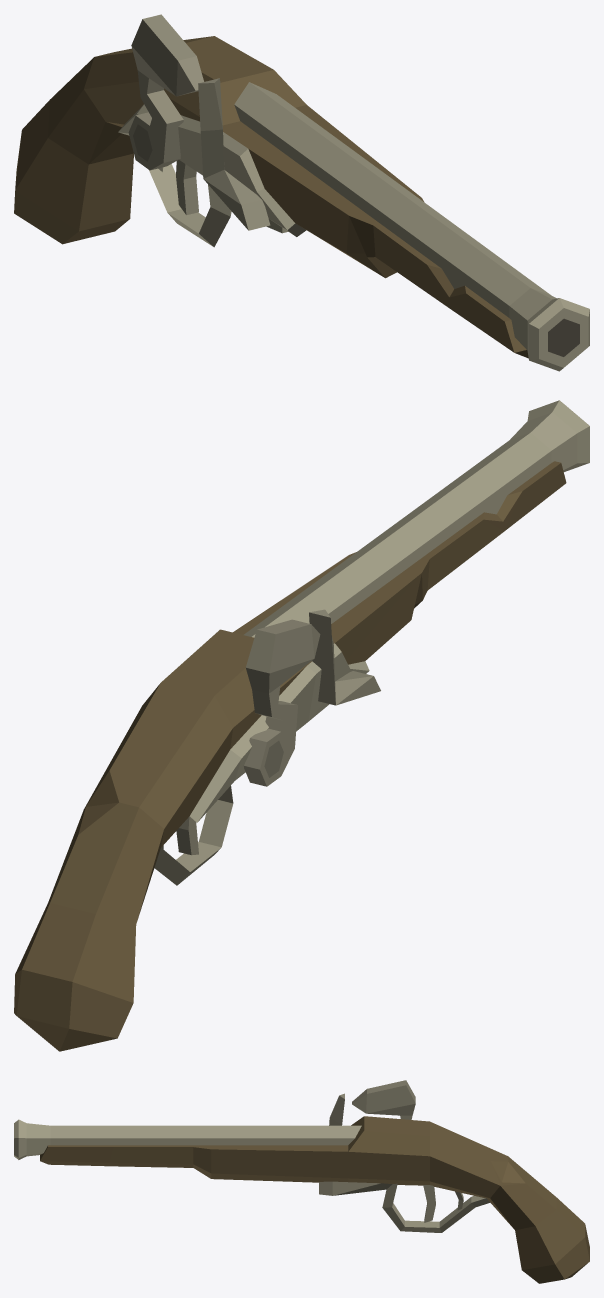
Rendered from Pistol_3.fbx.
The picture shows the model from 3 angles, top to bottom: view 1: azimuth 30°, elevation 25°; view 2: azimuth 150°, elevation 25°; view 3: azimuth 270°, elevation 25°; orthographic projection. The views are drawn at different scales.
Visible parts, largest first — view 1: Pistol_3; view 2: Pistol_3; view 3: Pistol_3.
Boxes of the visible parts, x1,y1,x2,y2 form: Pistol_3: [14, 14, 589, 371]; Pistol_3: [14, 400, 589, 1051]; Pistol_3: [14, 1080, 589, 1283].
Size of the model in its own units: 8.37 by 20.21 by 58.87.
